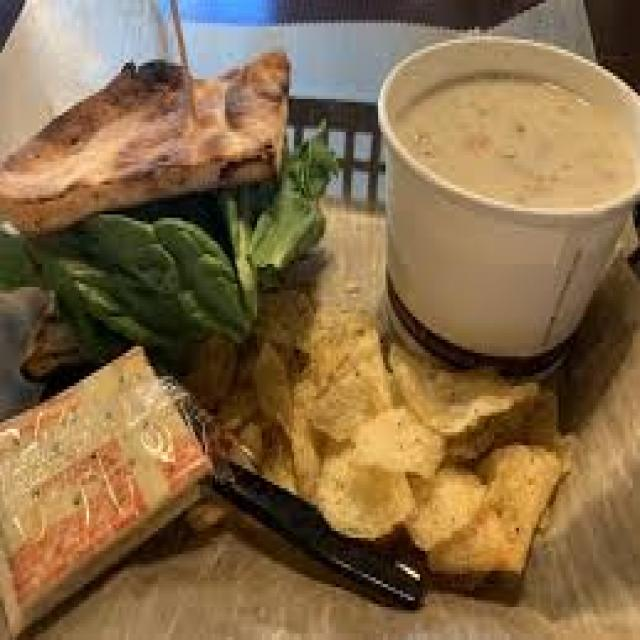Sandwich: (2, 43, 334, 406)
